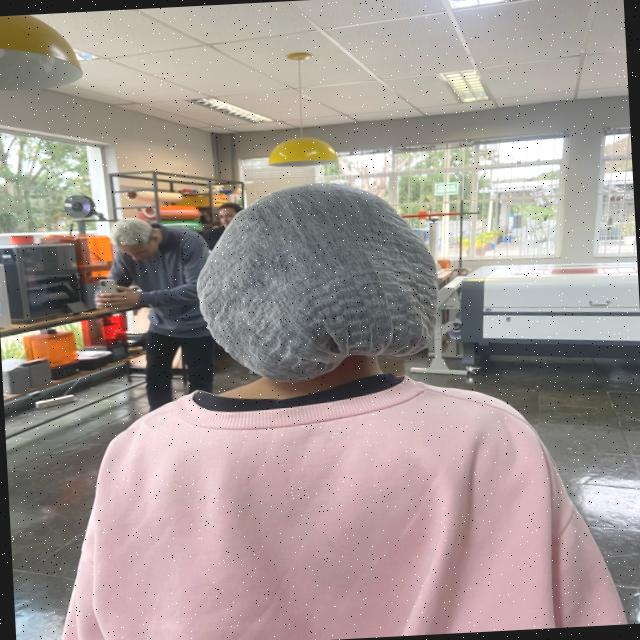SEM LUVA: (94, 285, 144, 310)
TOUCA: (193, 184, 451, 386)
